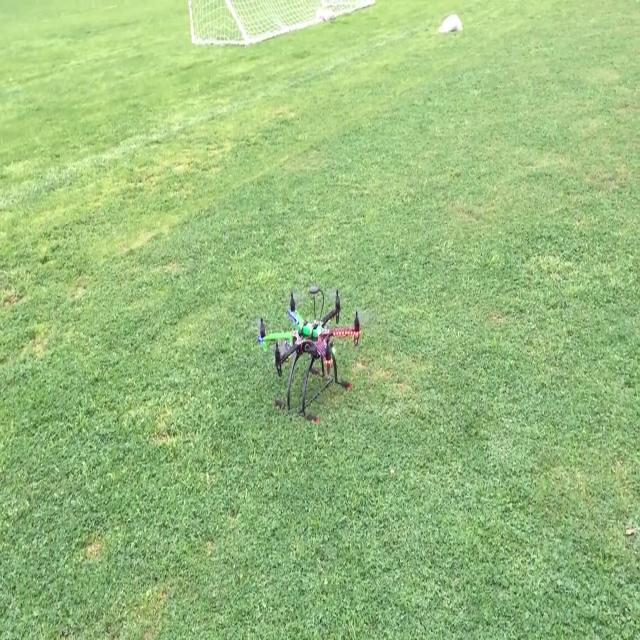drone: (242, 273, 379, 425)
